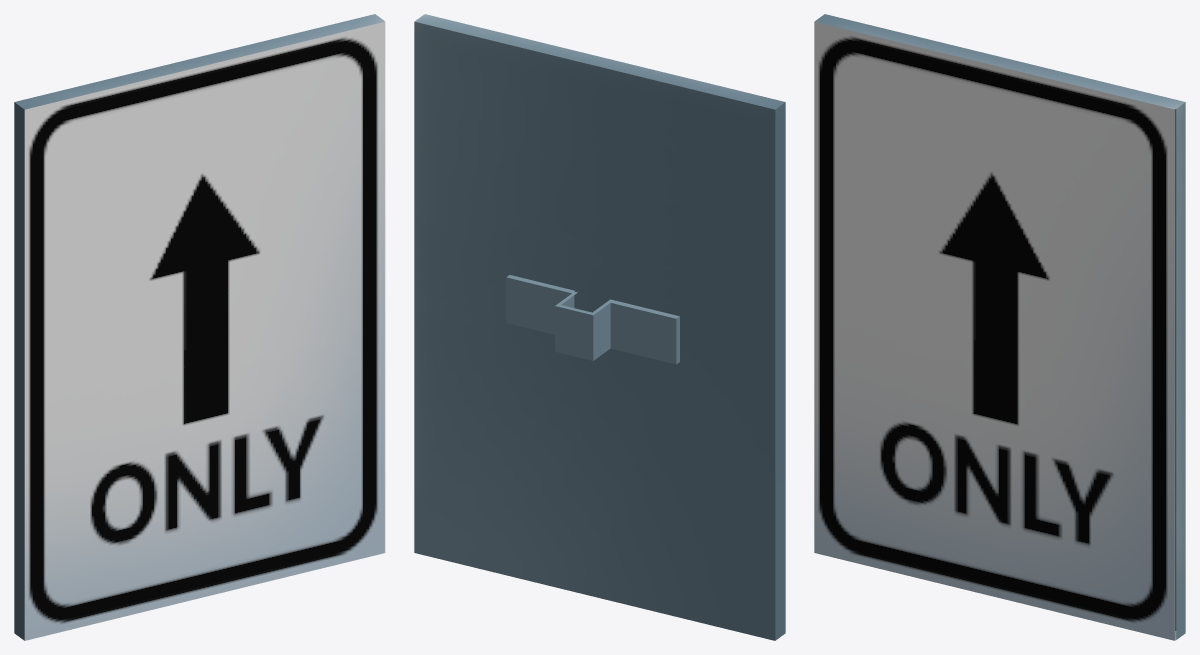
Rendered from Sign35.fbx.
3 views of the same model, side by side, from view 1: azimuth 30°, elevation 25°; view 2: azimuth 150°, elevation 25°; view 3: azimuth 330°, elevation 25° (orthographic).
Visible parts, largest first — view 1: Sign35; view 2: Sign35; view 3: Sign35.
Part boxes in pixels (left/top/right/bottom): Sign35: left=14, top=14, right=385, bottom=640; Sign35: left=414, top=14, right=785, bottom=640; Sign35: left=814, top=14, right=1185, bottom=640.
Size of the model in its own units: 1 by 0.1489 by 1.41.
